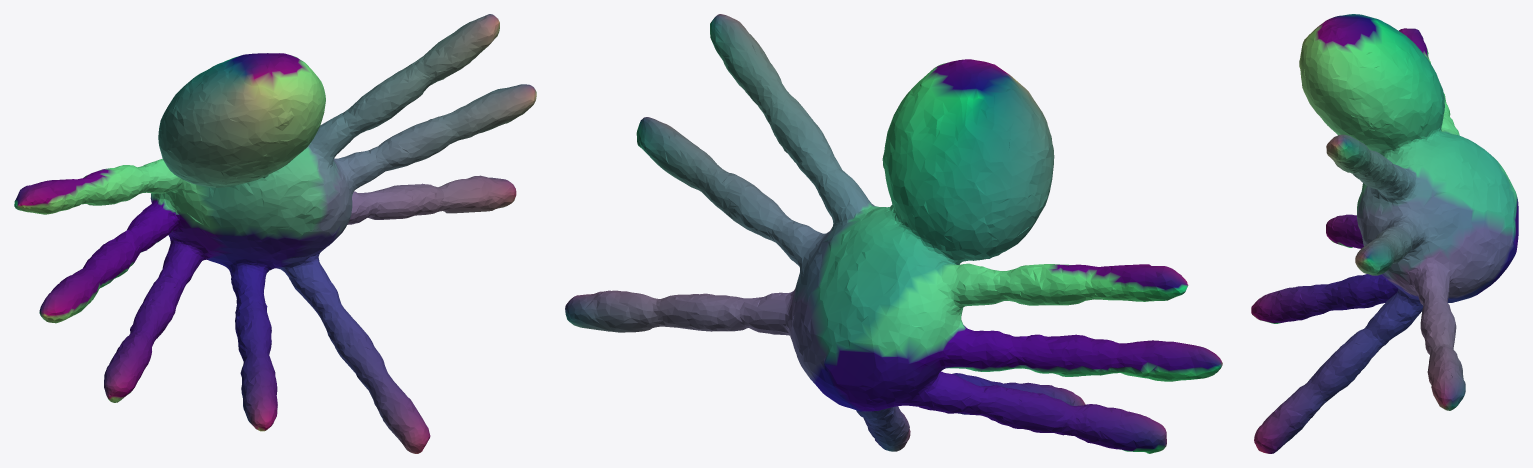
File: spider-1.off.obj
The picture shows the model from 3 angles, left to right: view 1: azimuth 30°, elevation 25°; view 2: azimuth 150°, elevation 25°; view 3: azimuth 270°, elevation 25°; orthographic projection. The views are drawn at different scales.
Size of the model in its own units: 1.64 by 1.17 by 0.7499.
